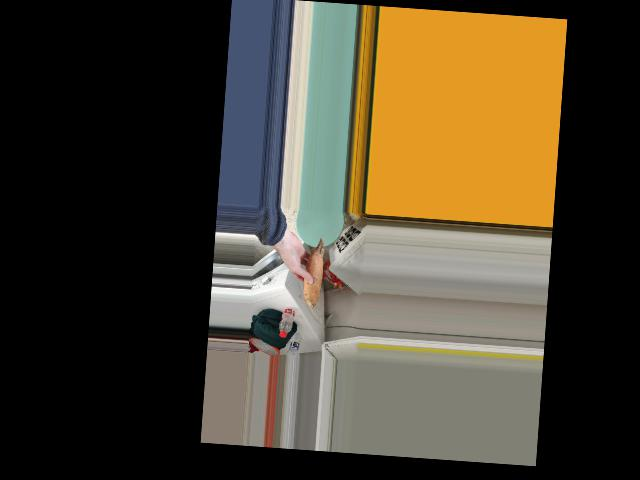sweet_potato: (299, 242, 326, 303)
